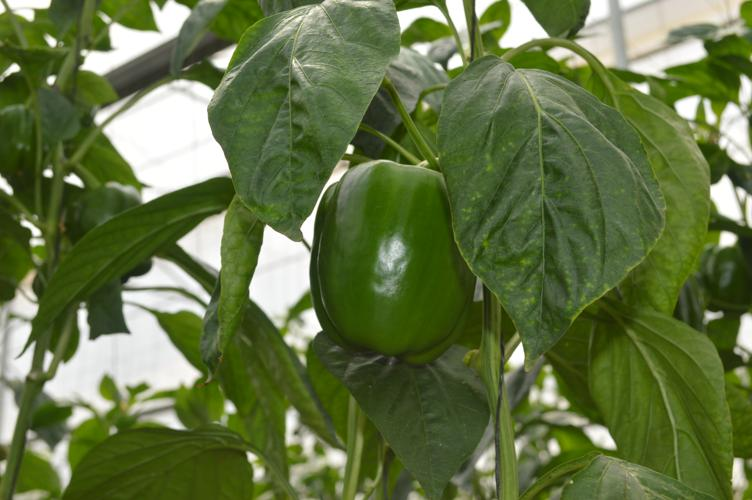BellPepper: (309, 160, 473, 365)
